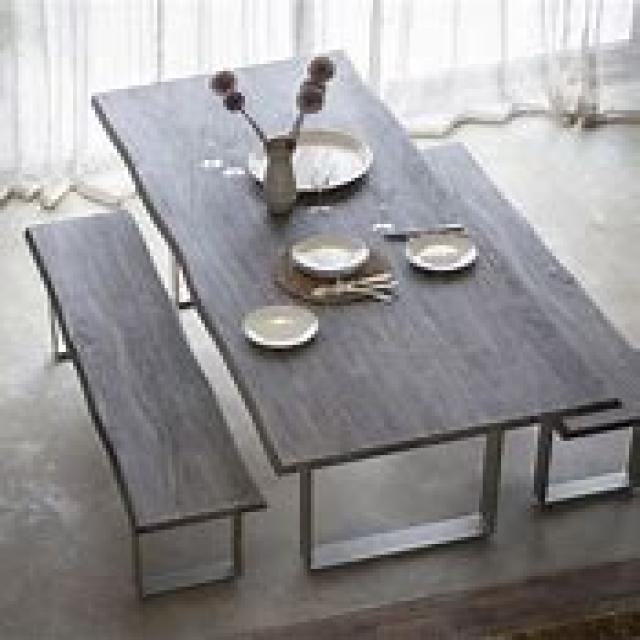chair: (22, 207, 271, 598)
table: (88, 46, 636, 569)
